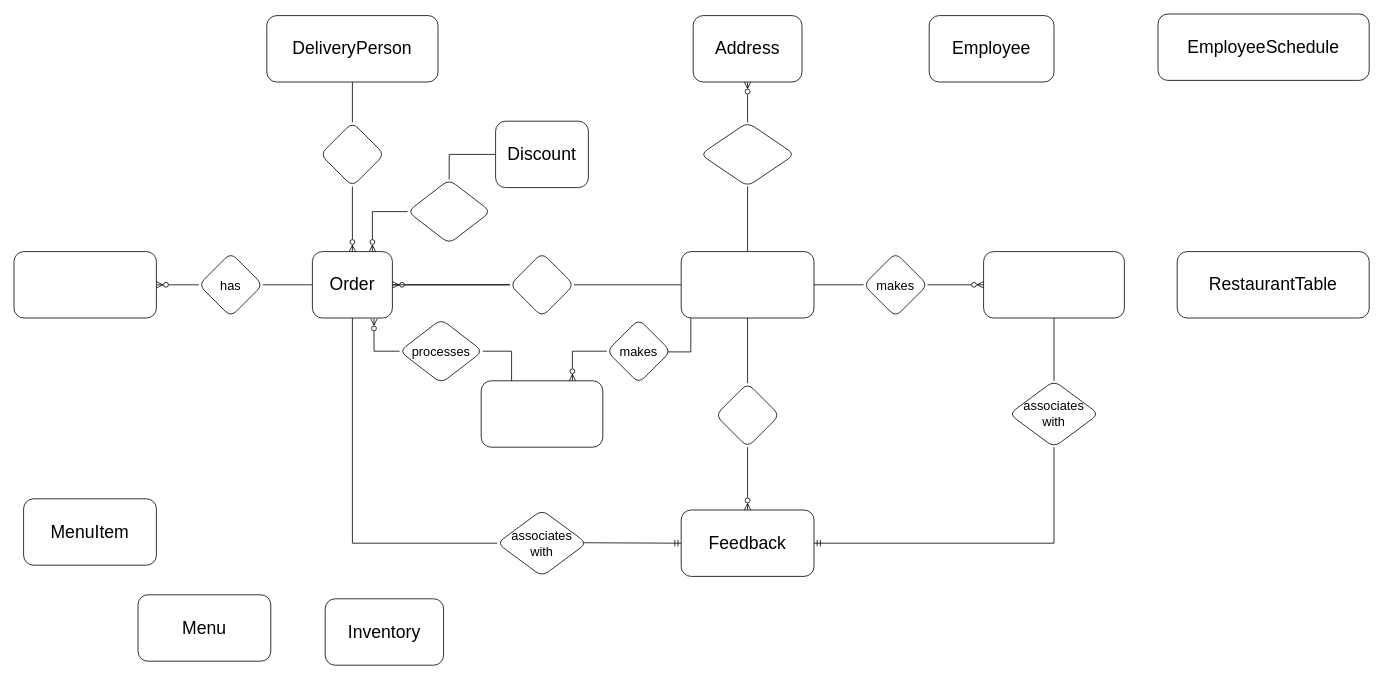
Some shapes in this 1383 by 679 pixel diagram are drawn without their labels. The shapes that lost their labels are listed below. From the top down, each one's centre as x and y in pixels, then its label:
At (x=352, y=154): "delivers".
At (x=747, y=154): "resides at".
At (x=449, y=211): "applies to".
At (x=84, y=284): "OrderDetails".
At (x=541, y=284): "places".
At (x=747, y=284): "Customer".
At (x=1053, y=284): "Reservation".
At (x=541, y=413): "Payment".
At (x=747, y=414): "gives".
